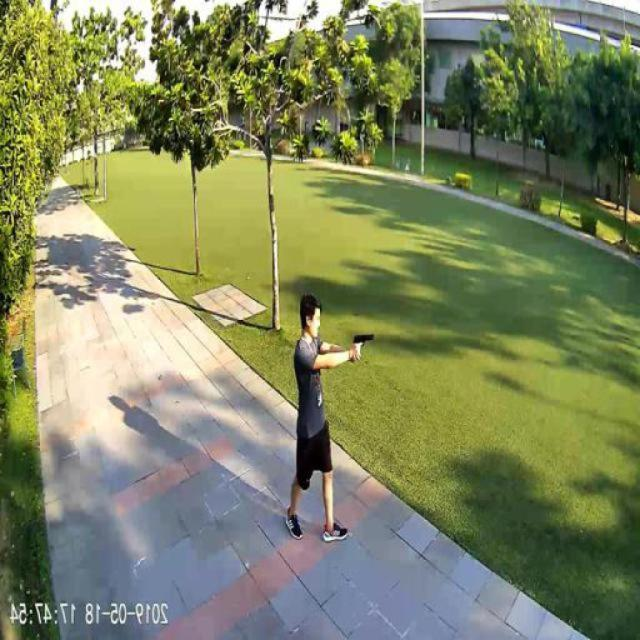pistol: (355, 330, 376, 345)
